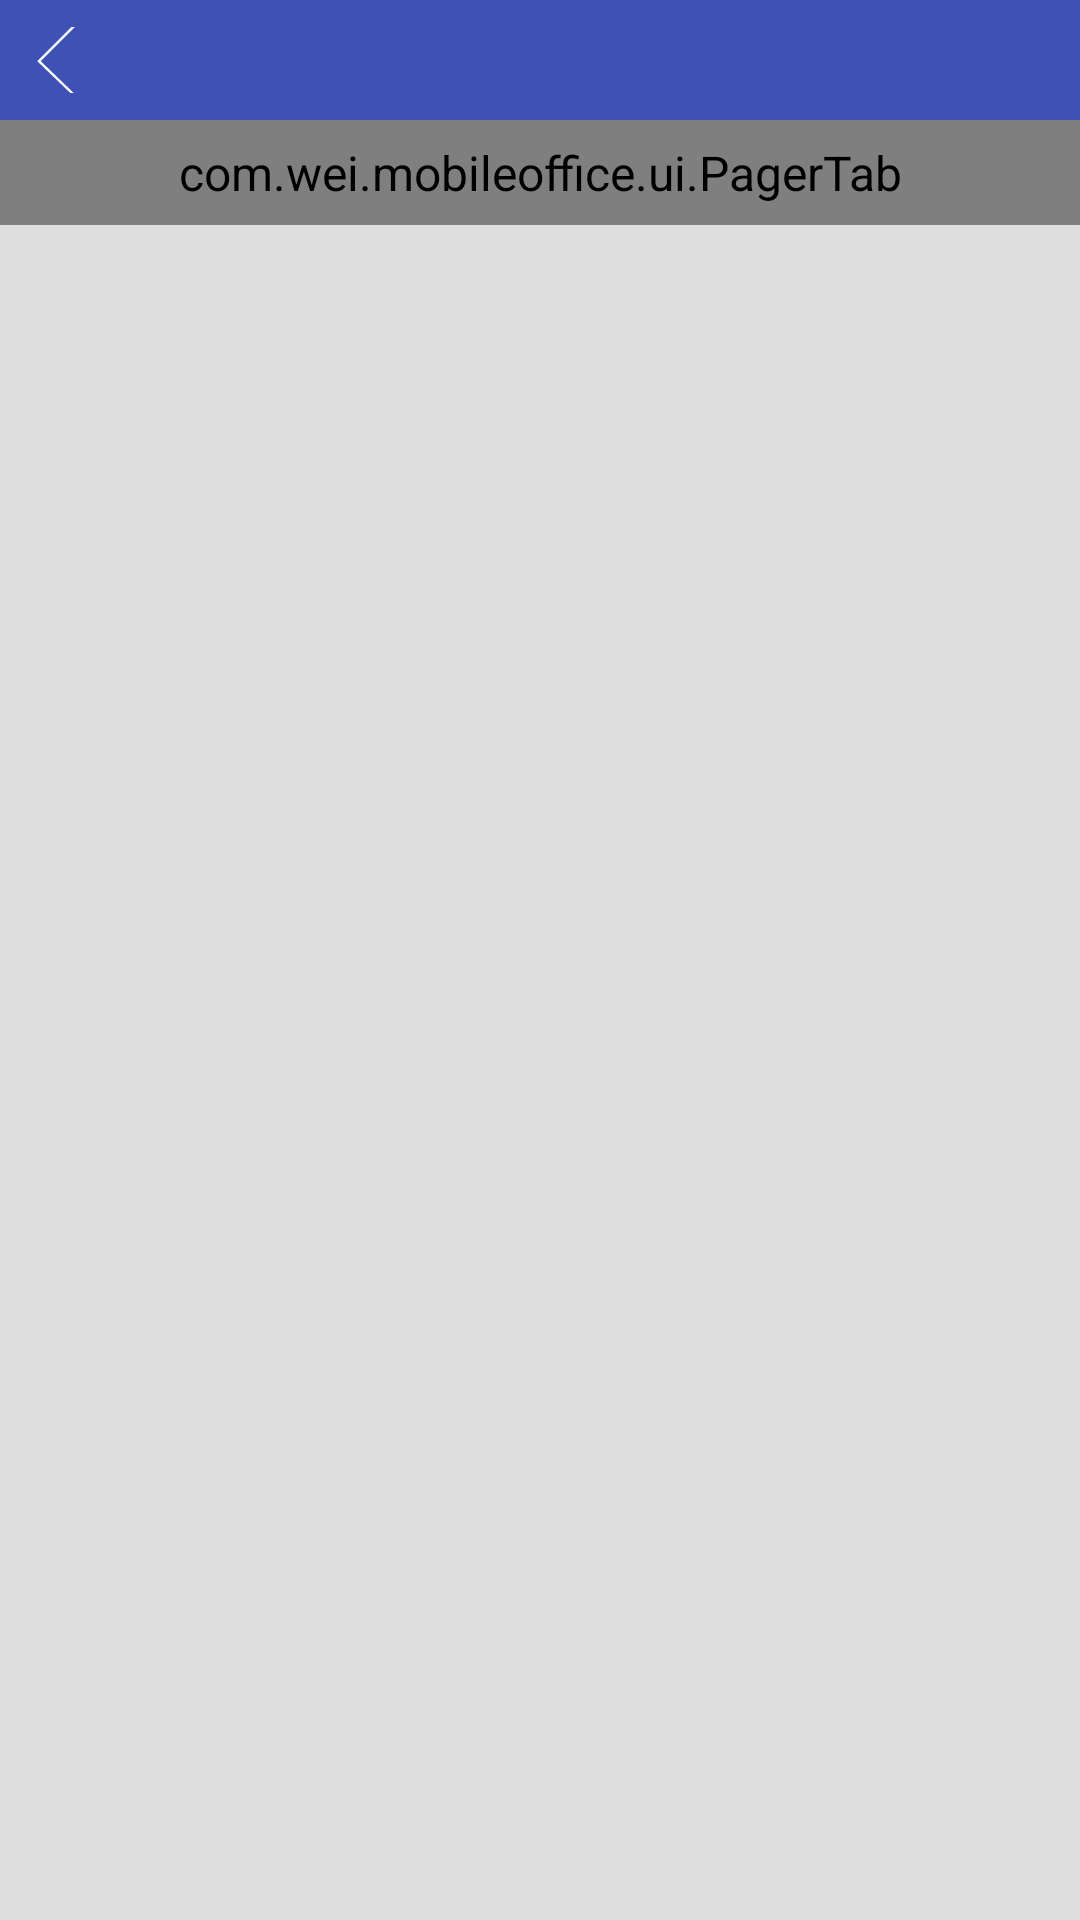

Icons on this 1080px×1920px Android screen, each with its box as box=[x1, y1, x2, y2]:
back: box=[37, 27, 75, 93]
